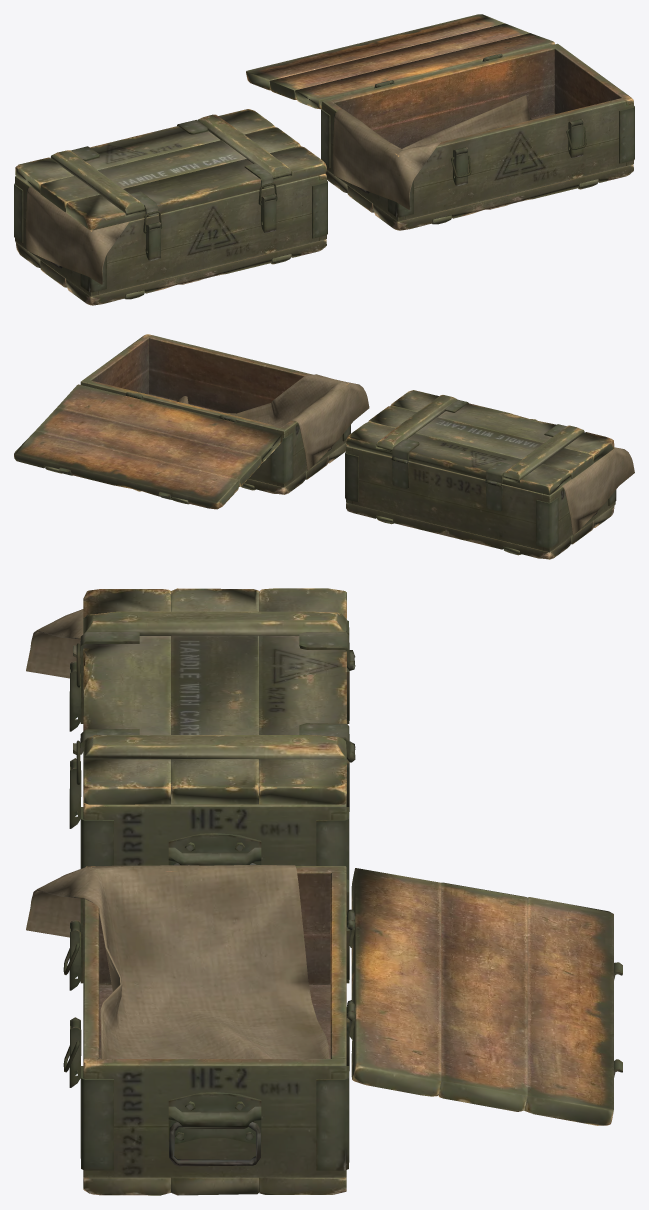
File: old_military_crate.glb
3 renders of one model, top to bottom at view 1: azimuth 30°, elevation 25°; view 2: azimuth 150°, elevation 25°; view 3: azimuth 270°, elevation 25°, orthographic. The views are drawn at different scales.
Visible parts, largest first — view 1: old_military_crate_b, old_military_crate_lid_a, old_military_crate_a, old_military_crate_lid_b, old_military_crate_cloth_b, old_military_crate_cloth_a, old_military_crate_latch_a, old_military_crate_latch_b; view 2: old_military_crate_lid_b, old_military_crate_lid_a, old_military_crate_a, old_military_crate_b, old_military_crate_cloth_b, old_military_crate_cloth_a; view 3: old_military_crate_lid_a, old_military_crate_lid_b, old_military_crate_b, old_military_crate_cloth_b, old_military_crate_a, old_military_crate_cloth_a, old_military_crate_latch_a, old_military_crate_latch_b.
Part boxes in pixels (box(x1,y1,x2,y2)): old_military_crate_b: box(321, 43, 634, 230); old_military_crate_lid_a: box(15, 109, 326, 230); old_military_crate_a: box(14, 173, 327, 305); old_military_crate_lid_b: box(246, 14, 554, 109); old_military_crate_cloth_b: box(333, 95, 531, 209); old_military_crate_cloth_a: box(25, 186, 129, 284); old_military_crate_latch_a: box(145, 193, 276, 261); old_military_crate_latch_b: box(453, 118, 583, 186); old_military_crate_lid_b: box(14, 384, 282, 509); old_military_crate_lid_a: box(346, 390, 614, 495); old_military_crate_a: box(345, 446, 616, 559); old_military_crate_b: box(80, 334, 350, 494); old_military_crate_cloth_b: box(176, 374, 369, 470); old_military_crate_cloth_a: box(562, 447, 634, 535); old_military_crate_lid_a: box(73, 588, 355, 805); old_military_crate_lid_b: box(347, 868, 622, 1125); old_military_crate_b: box(80, 866, 354, 1195); old_military_crate_cloth_b: box(26, 865, 329, 1058); old_military_crate_a: box(80, 620, 355, 886); old_military_crate_cloth_a: box(26, 609, 83, 678); old_military_crate_latch_a: box(69, 661, 81, 828); old_military_crate_latch_b: box(69, 920, 81, 1087).
Size of the model in its own units: 1.81 by 0.3009 by 0.9743.
Materials: 1 (1 with a texture image).
